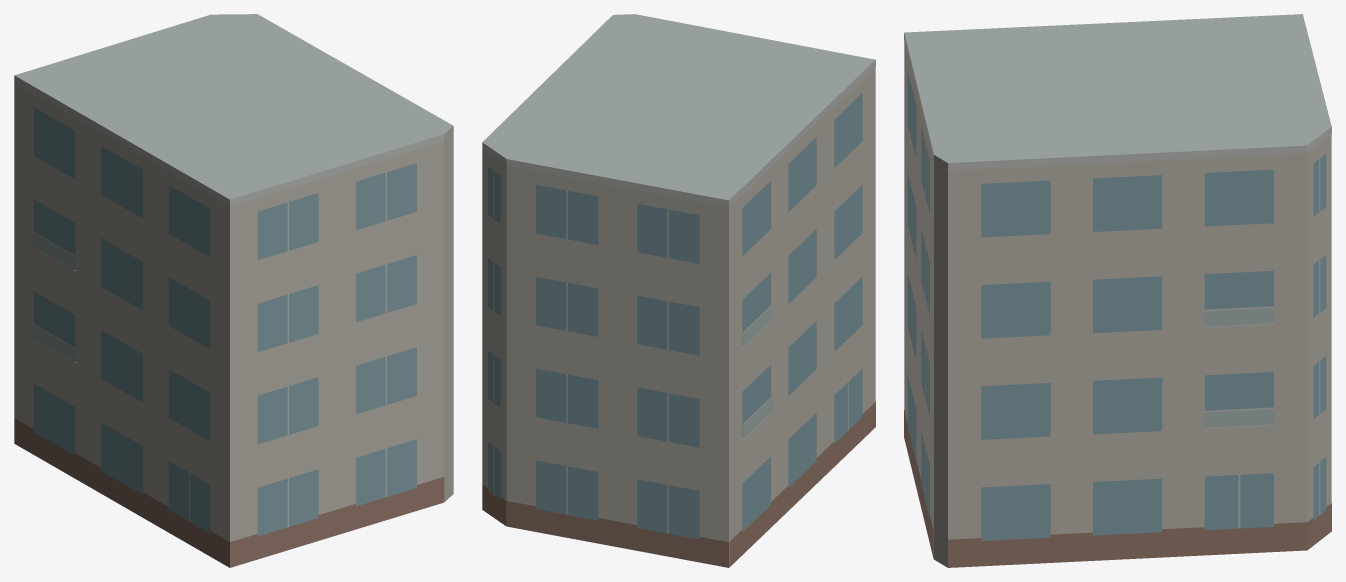
Rendered from survey-upis-33016045.glb.
The picture shows the model from 3 angles, left to right: view 1: azimuth 30°, elevation 25°; view 2: azimuth 150°, elevation 25°; view 3: azimuth 270°, elevation 25°; orthographic projection. The views are drawn at different scales.
Parts seen in each view (by area): view 1: survey-upis-33016045.tmp; view 2: survey-upis-33016045.tmp; view 3: survey-upis-33016045.tmp.
Boxes of the visible parts, x1,y1,x2,y2 form: survey-upis-33016045.tmp: (14, 14, 453, 567); survey-upis-33016045.tmp: (482, 14, 875, 567); survey-upis-33016045.tmp: (904, 14, 1331, 567).
Bounding box in the file's own units: 10.12 × 12.8 × 12.26.
